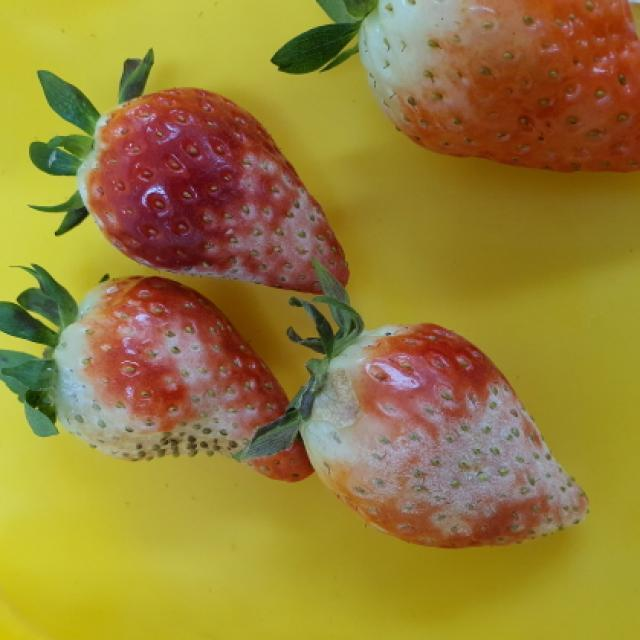Health_75: (353, 0, 639, 172)
Powdery Mildew Fruit: (294, 321, 592, 550), (75, 85, 351, 298), (48, 275, 312, 482)
